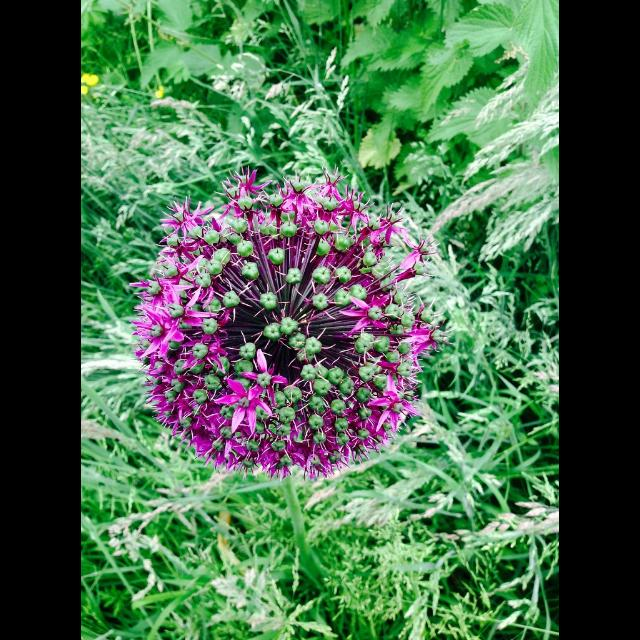Flower: (132, 157, 438, 480)
